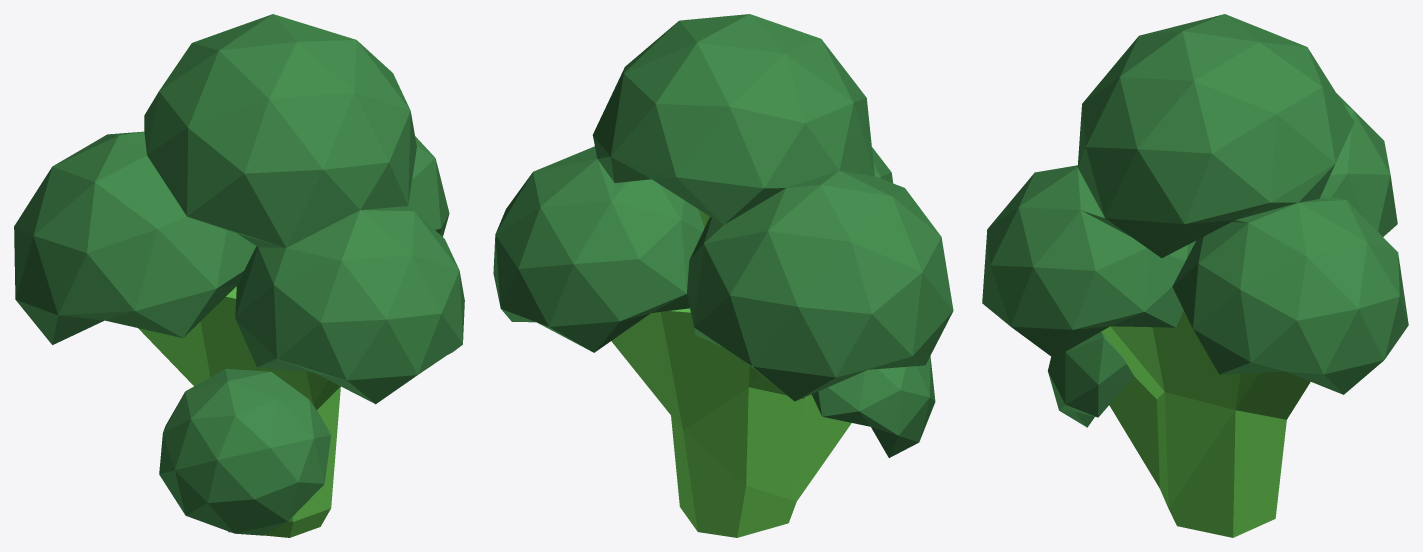
Rendered from Broccoli_L_Veggie.fbx.
3 views of the same model, side by side, from view 1: azimuth 30°, elevation 25°; view 2: azimuth 150°, elevation 25°; view 3: azimuth 270°, elevation 25° (orthographic).
Visible parts, largest first — view 1: Broccoli_L_Harvest; view 2: Broccoli_L_Harvest; view 3: Broccoli_L_Harvest.
Part boxes in pixels (x1,y1,x2,y2): Broccoli_L_Harvest: (14, 14, 464, 537); Broccoli_L_Harvest: (493, 14, 953, 537); Broccoli_L_Harvest: (982, 14, 1408, 537).
Bounding box in the file's own units: 18.22 × 20.7 × 16.5.
